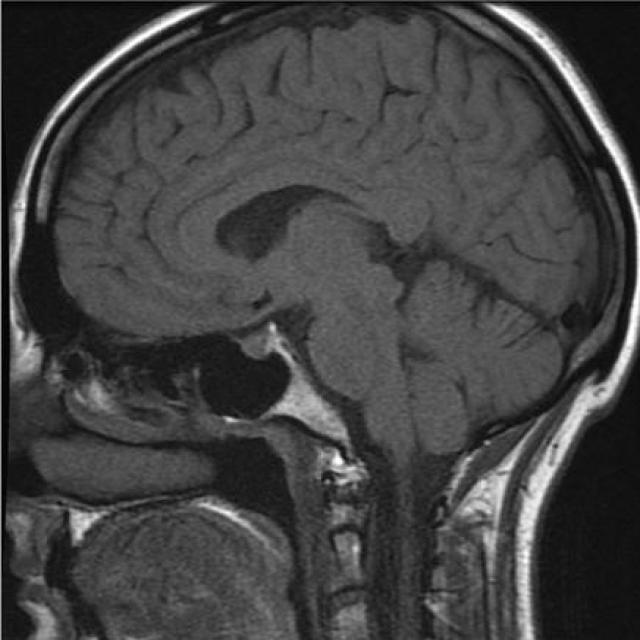brain_tumor: (197, 339, 294, 422)
